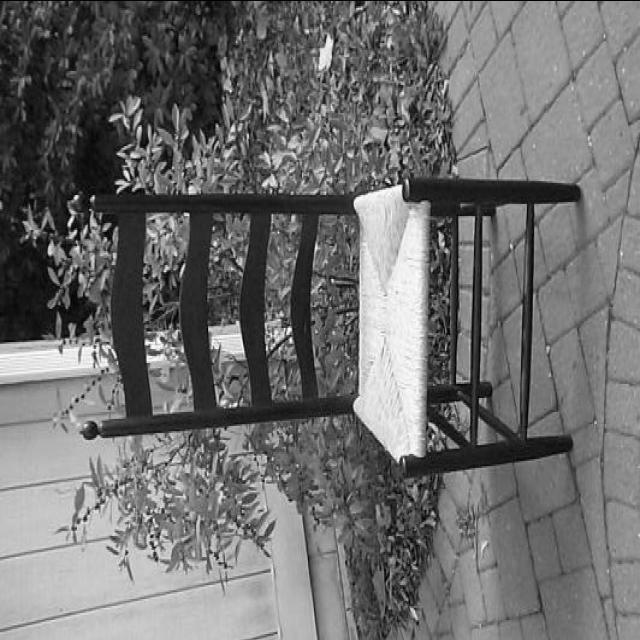chair: (66, 176, 578, 474)
